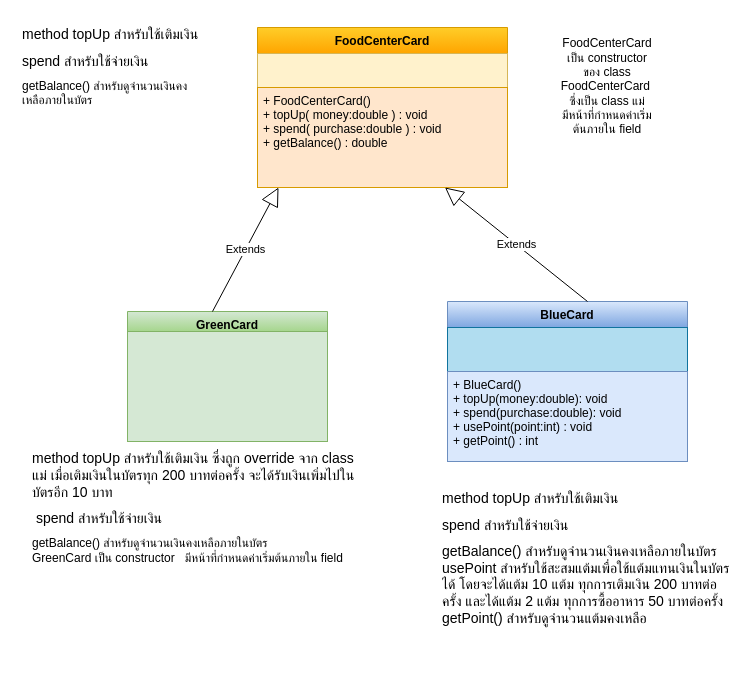
Some shapes in this 754 by 678 pixel diagram are drawn without their labels. The shapes that lost their labels are listed below. From the top down, each one's centre as x and y in pixels, then its label:
(382,70): - balance: double
(567,349): - point: int - color : String
(227,386): + GreenCard() + topUp( money:double) : void
